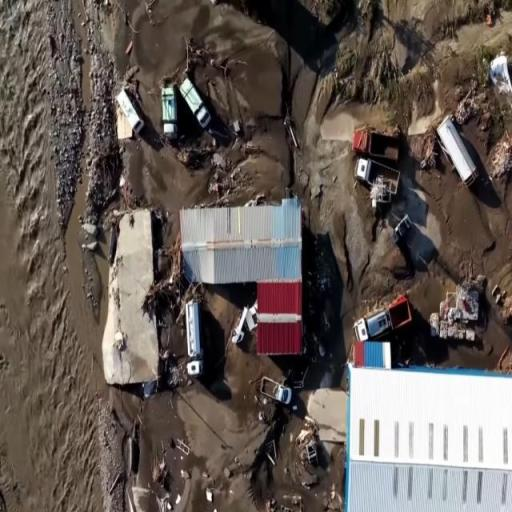house: (349, 357, 512, 512), (180, 201, 300, 283), (252, 274, 304, 356), (356, 138, 402, 200), (392, 216, 438, 274)
